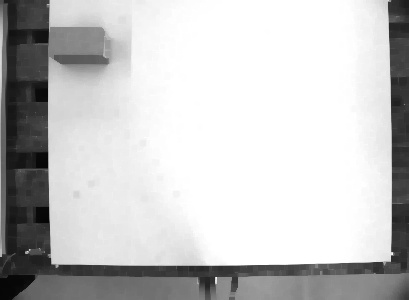b2: (47, 23, 112, 66)
